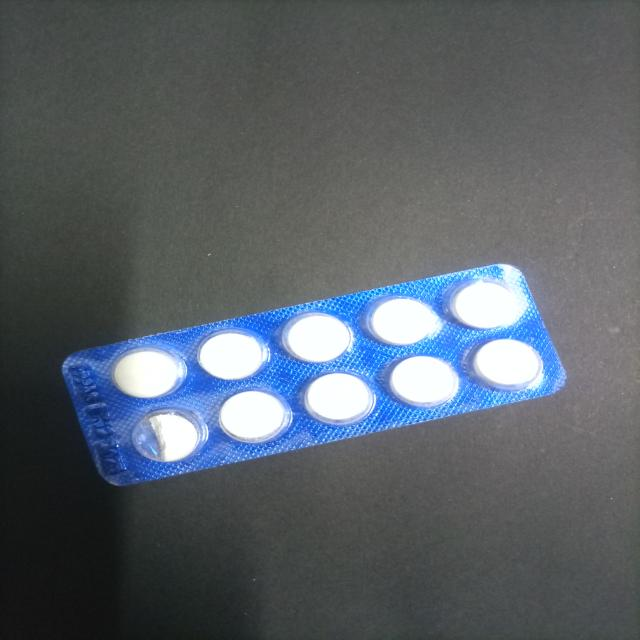defect: (127, 405, 209, 466)
